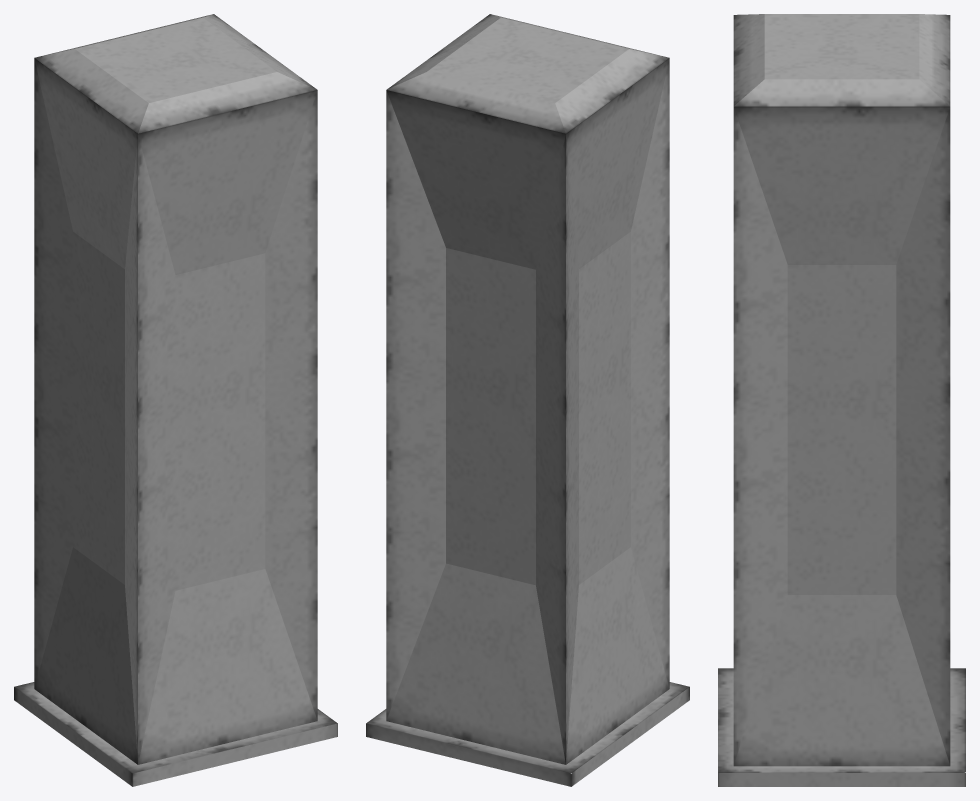
The model's file is ConcreteFencePost.fbx.
3 renders of one model, left to right at view 1: azimuth 30°, elevation 25°; view 2: azimuth 150°, elevation 25°; view 3: azimuth 270°, elevation 25°, orthographic. The views are drawn at different scales.
Parts seen in each view (by area): view 1: plane; view 2: plane; view 3: plane.
Part boxes in pixels (box(x1,y1,x2,y2)): plane: box(14, 14, 337, 786); plane: box(366, 14, 689, 786); plane: box(718, 14, 965, 786).
Bounding box in the file's own units: 100 × 306 × 100.
Materials: 1 (1 with a texture image).
